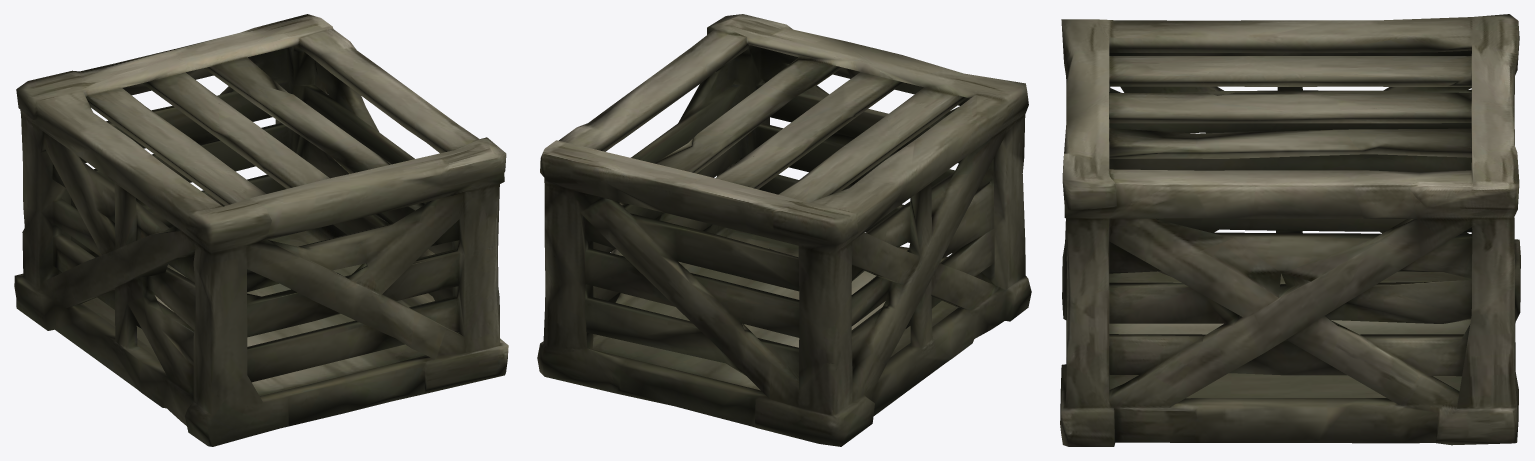
The model's file is crate_slatted_hd.glb.
3 renders of one model, left to right at view 1: azimuth 30°, elevation 25°; view 2: azimuth 150°, elevation 25°; view 3: azimuth 270°, elevation 25°, orthographic. The views are drawn at different scales.
Parts seen in each view (by area): view 1: tripo_node_55b29b18-ac8f-496b-835e-826fa7ff7bb6; view 2: tripo_node_55b29b18-ac8f-496b-835e-826fa7ff7bb6; view 3: tripo_node_55b29b18-ac8f-496b-835e-826fa7ff7bb6.
Part boxes in pixels (x1,y1,x2,y2): tripo_node_55b29b18-ac8f-496b-835e-826fa7ff7bb6: (14, 14, 508, 446); tripo_node_55b29b18-ac8f-496b-835e-826fa7ff7bb6: (537, 14, 1031, 446); tripo_node_55b29b18-ac8f-496b-835e-826fa7ff7bb6: (1060, 14, 1520, 446).
Size of the model in its own units: 0.9022 by 0.6286 by 1.
Materials: 1 (1 with a texture image).
